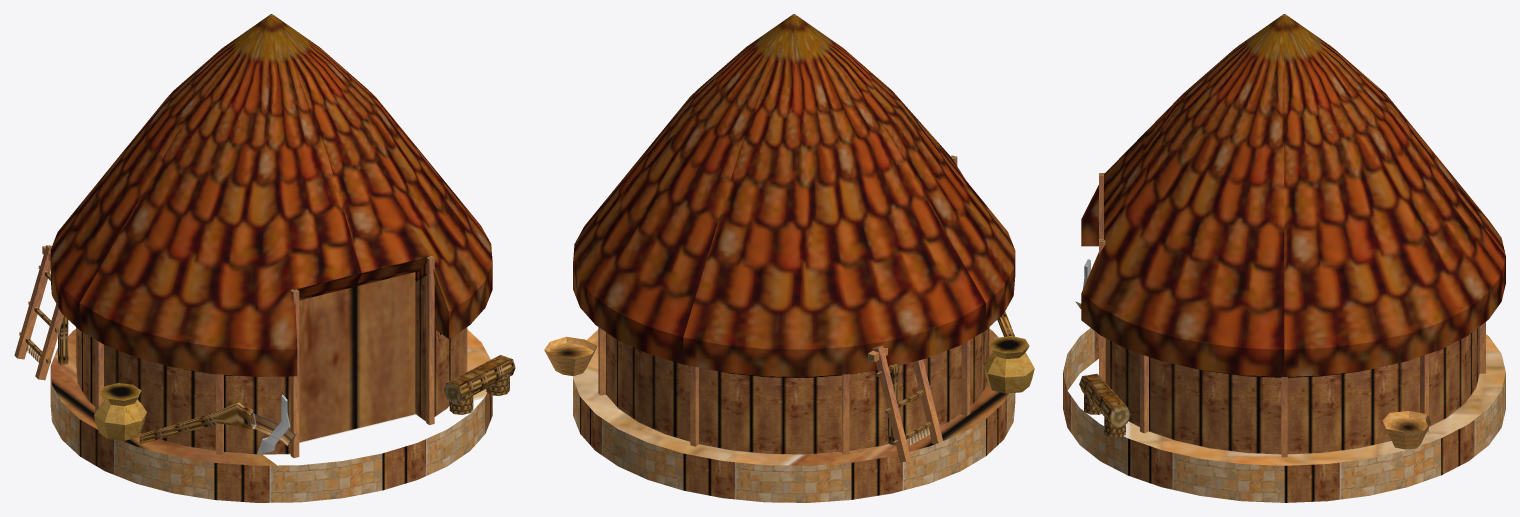
File: house_d.dae
The picture shows the model from 3 angles, left to right: view 1: azimuth 30°, elevation 25°; view 2: azimuth 150°, elevation 25°; view 3: azimuth 270°, elevation 25°; orthographic projection.
Visible parts, largest first — view 1: house_d; view 2: house_d; view 3: house_d.
Part boxes in pixels (<box>): house_d: <box>14,14,515,502</box>; house_d: <box>544,14,1034,502</box>; house_d: <box>1063,14,1505,502</box>.
Bounding box in the file's own units: 13.03 × 12.62 × 12.41.
